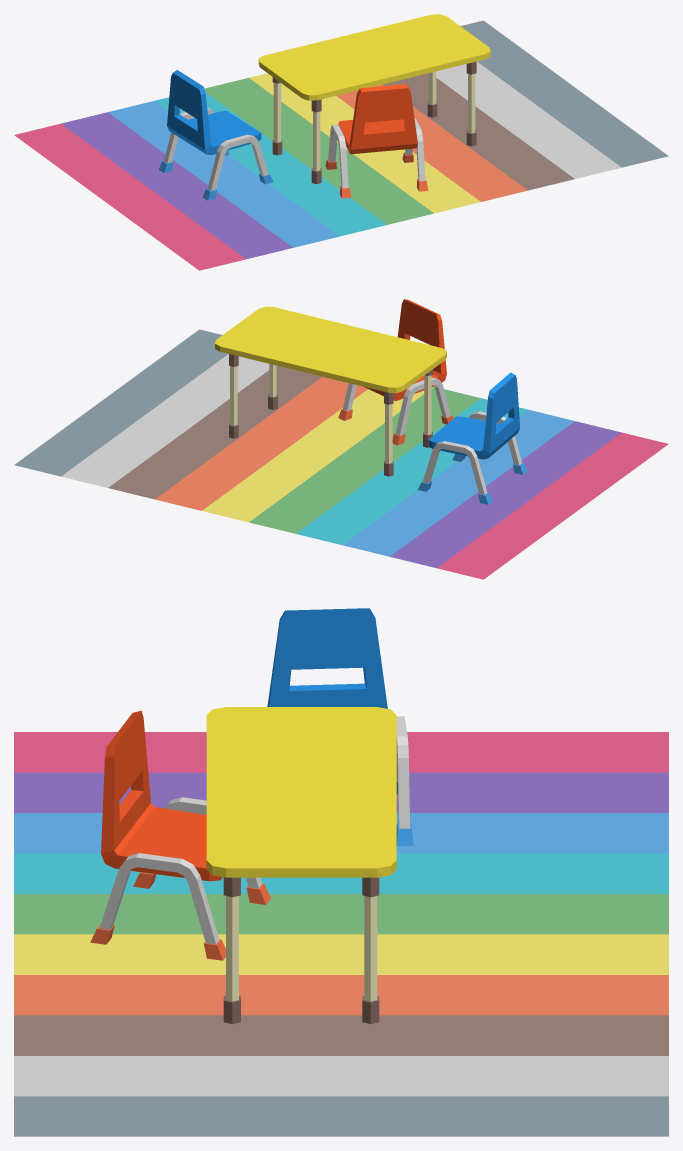
Rendered from Carpat_and_Table_Chair_M.fbx.
3 views of the same model, one above another, from view 1: azimuth 30°, elevation 25°; view 2: azimuth 150°, elevation 25°; view 3: azimuth 270°, elevation 25° (orthographic). The views are drawn at different scales.
Visible parts, largest first — view 1: Carpat_M, Table_M, Chair_M, Chair_M_1; view 2: Carpat_M, Table_M, Chair_M_1, Chair_M; view 3: Carpat_M, Table_M, Chair_M, Chair_M_1.
Boxes of the visible parts, left/top/right/bottom form: Carpat_M: left=14, top=20, right=668, bottom=270; Table_M: left=258, top=14, right=490, bottom=184; Chair_M: left=325, top=84, right=428, bottom=198; Chair_M_1: left=159, top=70, right=273, bottom=200; Carpat_M: left=14, top=329, right=668, bottom=579; Table_M: left=215, top=306, right=446, bottom=476; Chair_M_1: left=417, top=372, right=527, bottom=504; Chair_M: left=338, top=299, right=453, bottom=445; Carpat_M: left=14, top=732, right=668, bottom=1136; Table_M: left=206, top=707, right=396, bottom=1024; Chair_M: left=90, top=710, right=270, bottom=960; Chair_M_1: left=267, top=608, right=413, bottom=846.
Size of the model in its own units: 272 by 61.13 by 186.
Materials: 1 (1 with a texture image).
